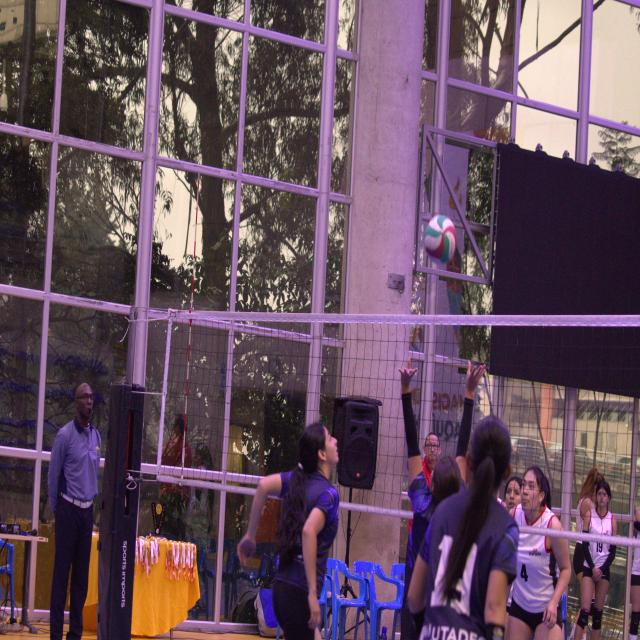volleyball: (424, 214, 457, 264)
